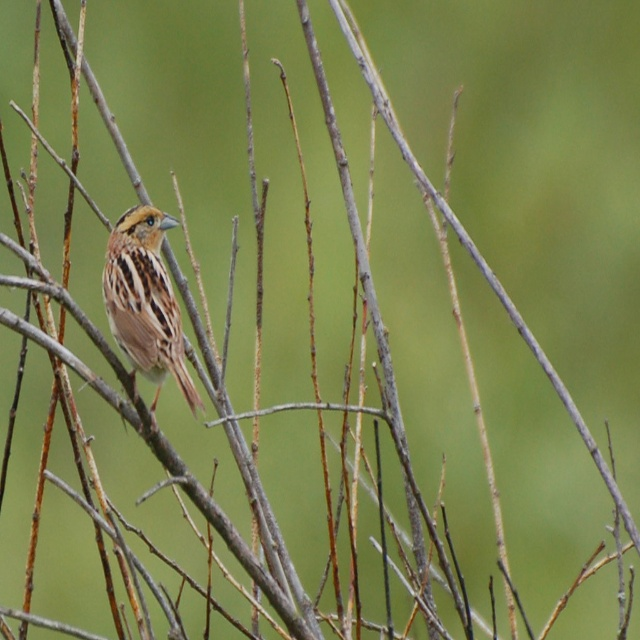Sparrow: (103, 203, 207, 419)
